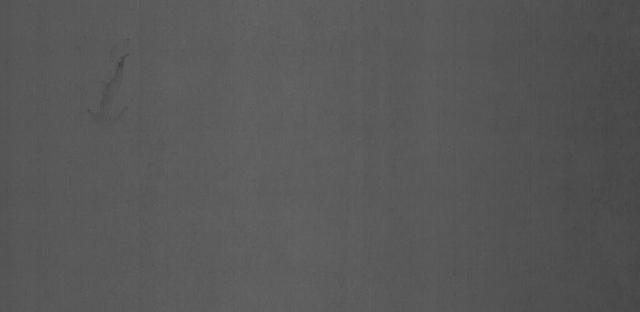water_spot: (82, 43, 156, 132)
